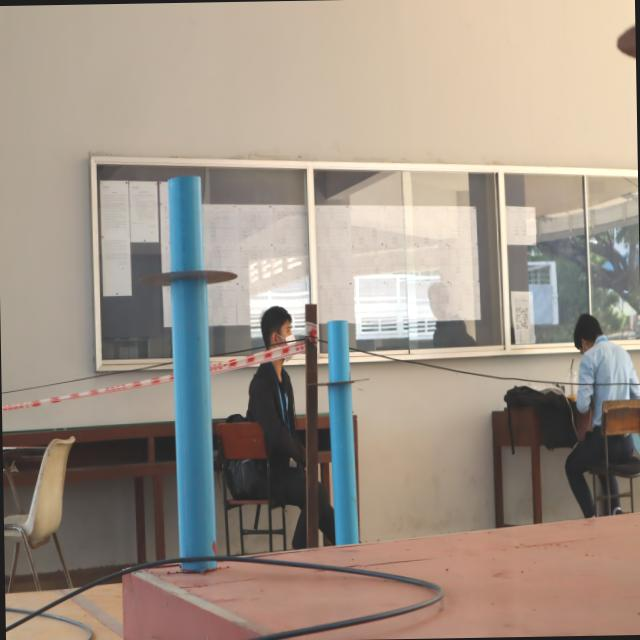pole: (144, 173, 242, 380), (306, 319, 372, 435)
